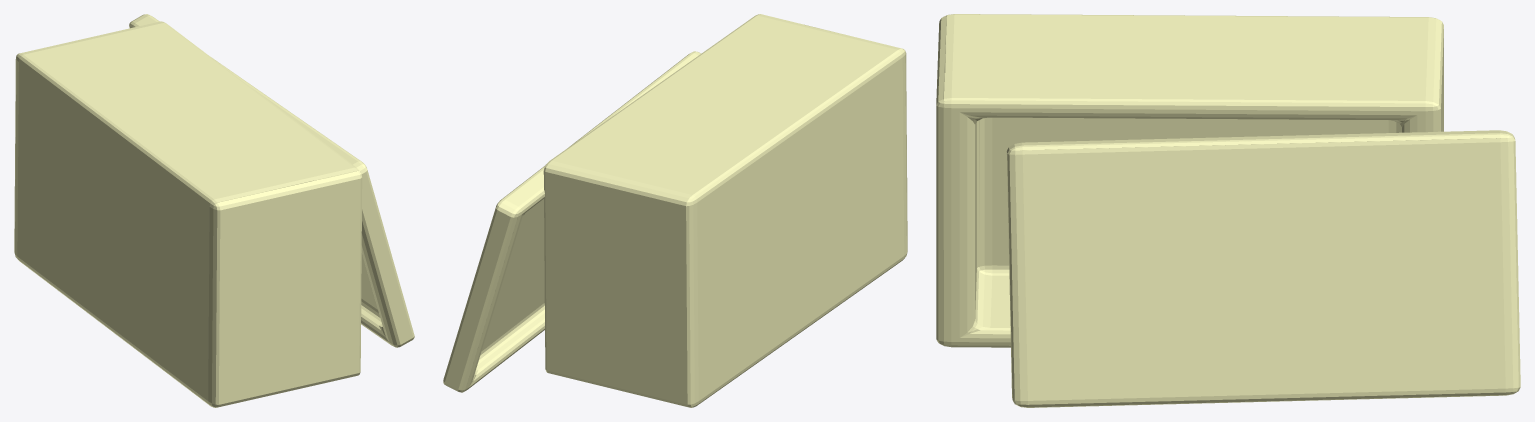
Rendered from jump container.fbx.
The picture shows the model from 3 angles, left to right: view 1: azimuth 30°, elevation 25°; view 2: azimuth 150°, elevation 25°; view 3: azimuth 270°, elevation 25°; orthographic projection. The views are drawn at different scales.
Visible parts, largest first — view 1: jump container; view 2: jump container; view 3: jump container.
Part boxes in pixels (x1=…): jump container: x1=14, y1=14, x2=414, y2=407; jump container: x1=443, y1=14, x2=907, y2=407; jump container: x1=936, y1=14, x2=1520, y2=407.
Size of the model in its own units: 252 by 227 by 452.
1 material, 1 textured.
